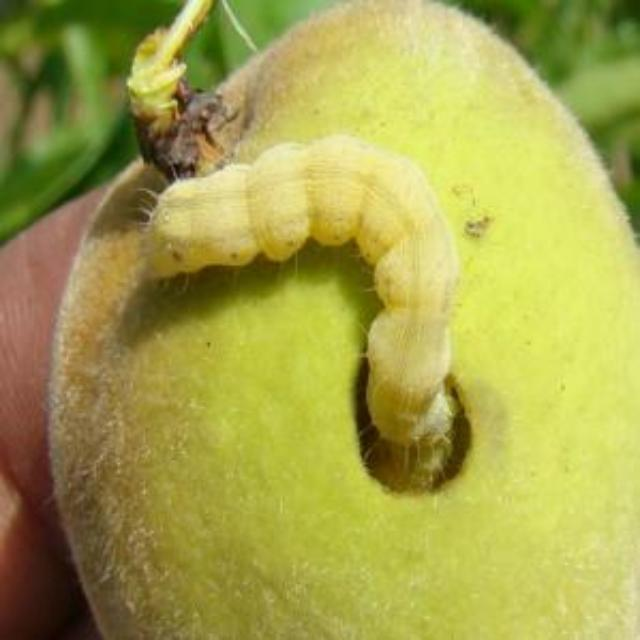Cotton bollworm: (118, 112, 506, 502)
